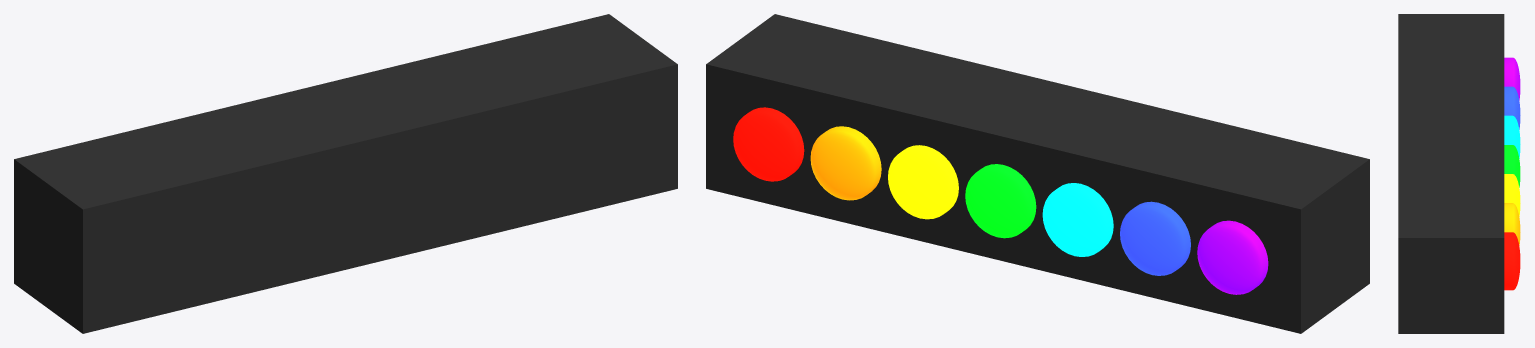
File: light_box.glb
3 views of the same model, side by side, from view 1: azimuth 30°, elevation 25°; view 2: azimuth 150°, elevation 25°; view 3: azimuth 270°, elevation 25° (orthographic). The views are drawn at different scales.
Parts seen in each view (by area): view 1: Cube; view 2: Cube, GameObject; view 3: Cube, GameObject.
Boxes of the visible parts, x1,y1,x2,y2 form: Cube: (14, 14, 677, 333); Cube: (706, 14, 1369, 333); GameObject: (733, 107, 1268, 294); Cube: (1398, 14, 1504, 333); GameObject: (1504, 57, 1520, 290).
Bounding box in the file's own units: 1 × 0.2 × 0.2302.
